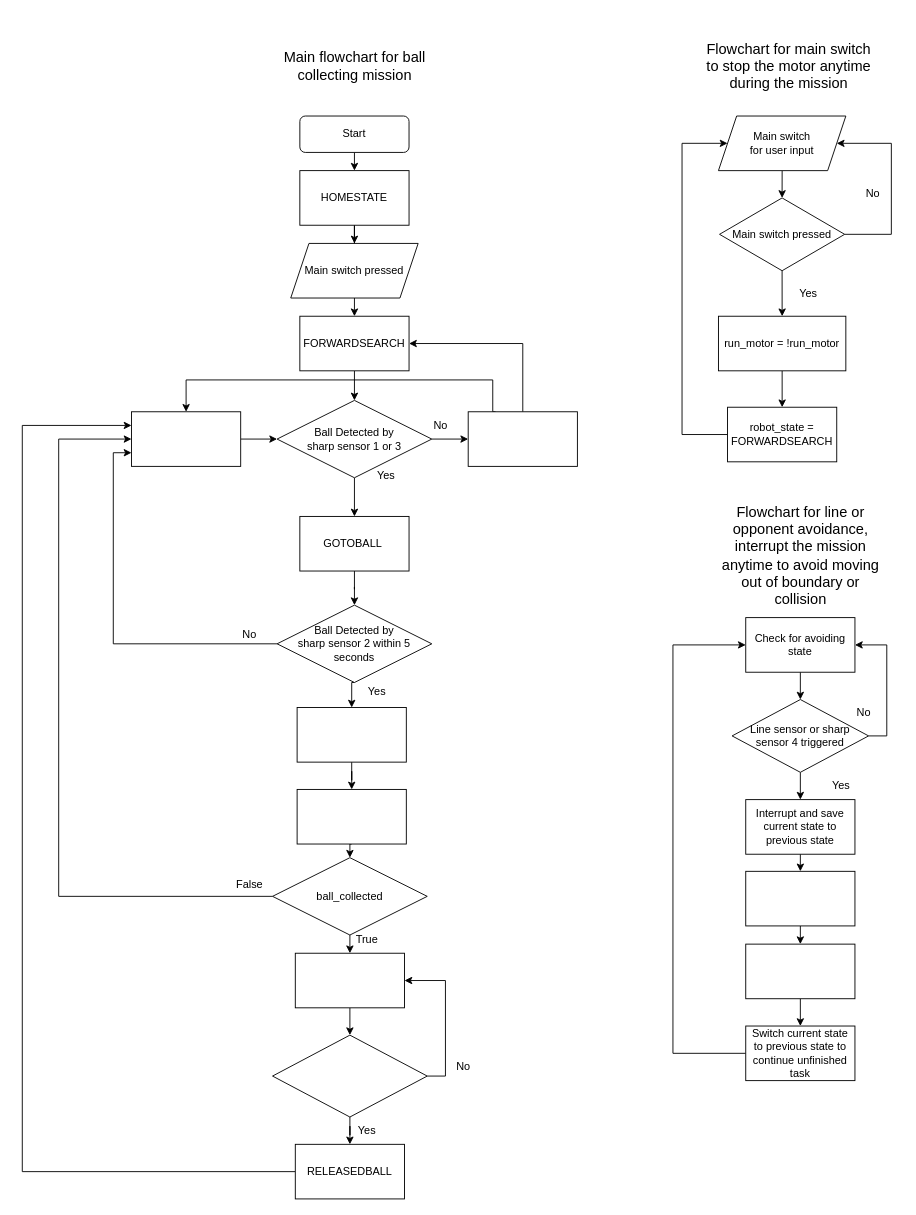
This 916x1215 diagram has some shape labels left out. Here are the shapes that lost their labels. From the top down, the centre of each, then its label:
At (186,438): "SEARCHING".
At (522,438): "Continue with current state (FORWARDSEARCH or SEARCHING)".
At (351,734): "COLLECTINGBALL".
At (351,816): "CHECKBALL".
At (800,898): "Set current state to respective avoiding state (avoid line or opponent)".
At (349,980): "RETURNHOME".
At (800,971): "Perform avoidance".
At (349,1075): "Both front limit switches triggered".
